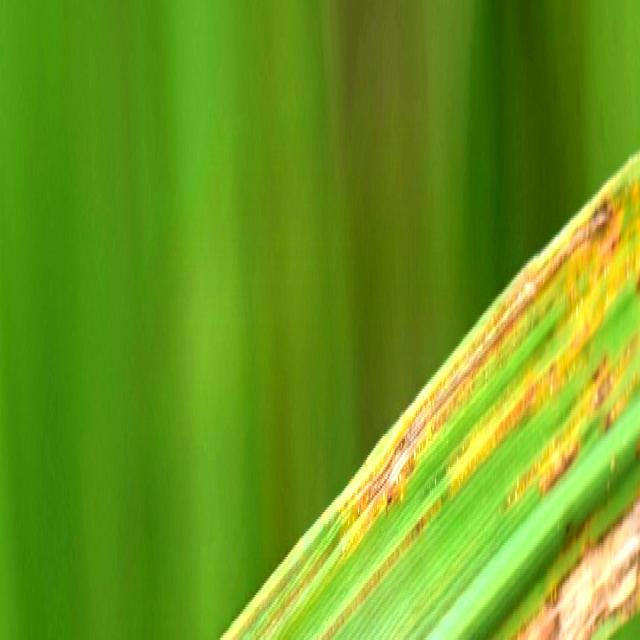BLS: (256, 151, 639, 640), (312, 212, 639, 640), (499, 326, 639, 519), (510, 488, 639, 640), (222, 632, 240, 640), (606, 639, 608, 640)
